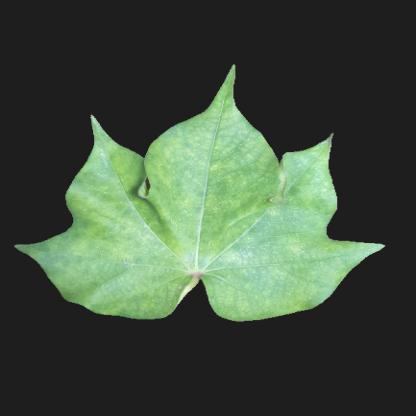curl_stage1: (166, 140, 268, 230), (195, 242, 331, 302), (77, 197, 177, 277), (271, 154, 331, 240), (83, 274, 179, 320), (95, 146, 149, 196), (197, 108, 251, 140)
